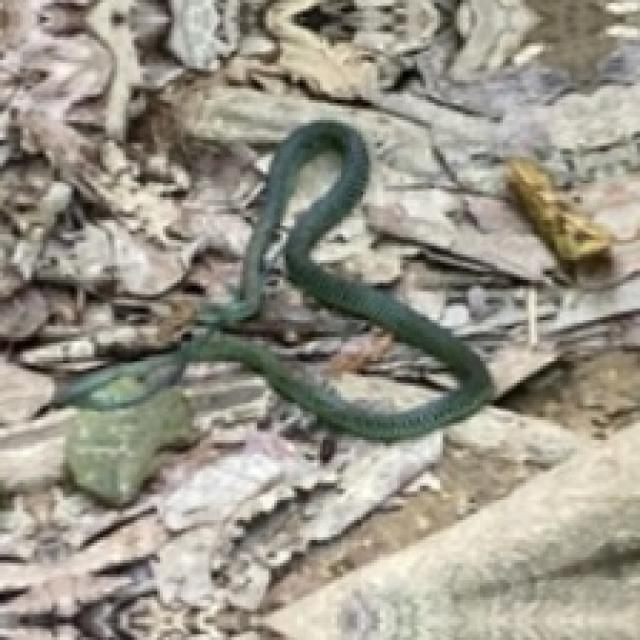paradise tree snake: (160, 120, 491, 437), (211, 149, 460, 411)
